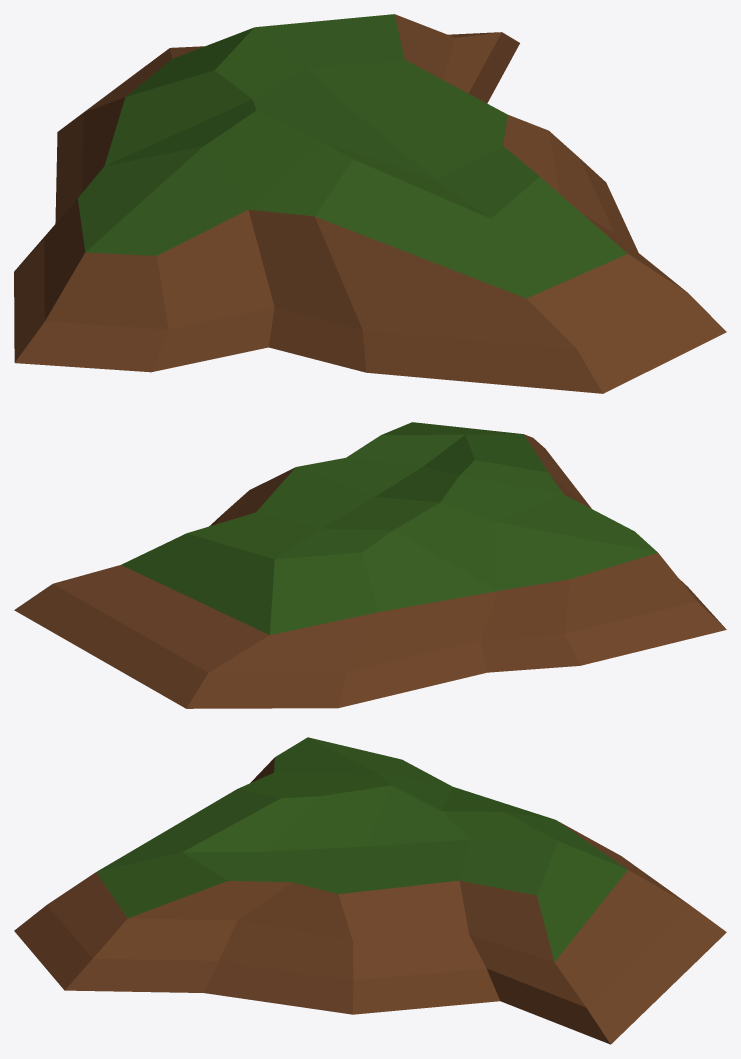
File: MossyRocks007.fbx
The picture shows the model from 3 angles, top to bottom: view 1: azimuth 30°, elevation 25°; view 2: azimuth 150°, elevation 25°; view 3: azimuth 270°, elevation 25°; orthographic projection. The views are drawn at different scales.
Parts seen in each view (by area): view 1: Cube.017; view 2: Cube.017; view 3: Cube.017.
Part boxes in pixels (bbox=[...]): Cube.017: bbox=[14, 14, 726, 393]; Cube.017: bbox=[14, 422, 726, 708]; Cube.017: bbox=[14, 737, 726, 1044].
Size of the model in its own units: 622 by 112 by 692.
